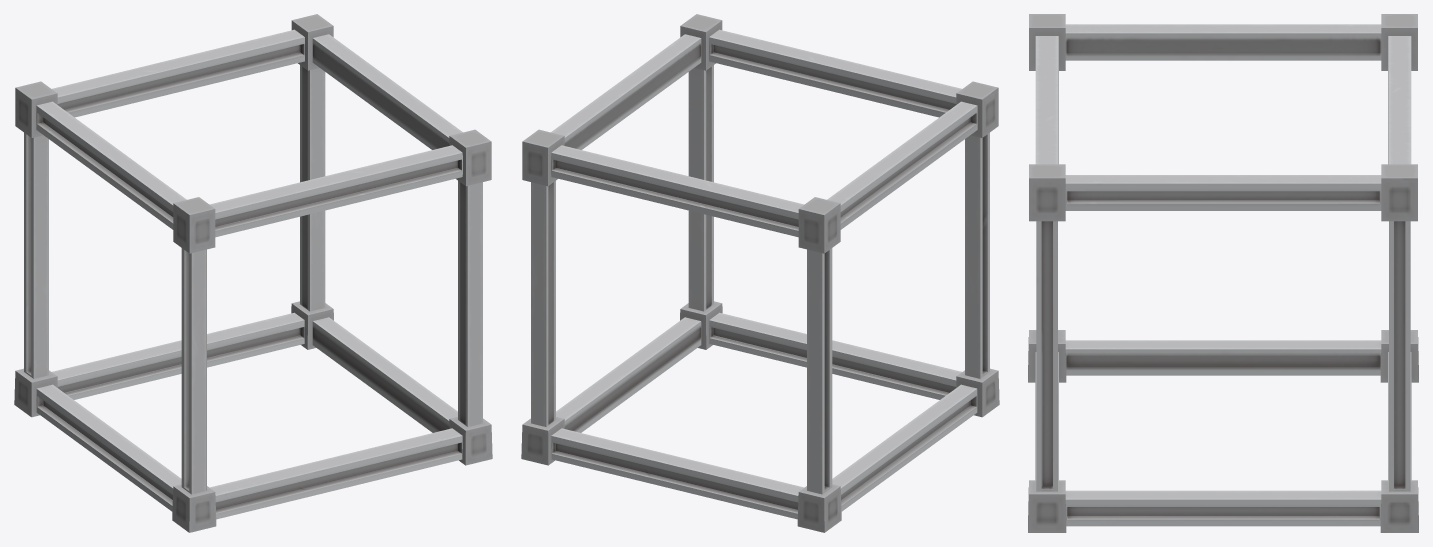
File: SM_ContainerFrame.fbx
3 renders of one model, left to right at view 1: azimuth 30°, elevation 25°; view 2: azimuth 150°, elevation 25°; view 3: azimuth 270°, elevation 25°, orthographic. The views are drawn at different scales.
Visible parts, largest first — view 1: Mat_SteelFrame_01 7; view 2: Mat_SteelFrame_01 7; view 3: Mat_SteelFrame_01 7.
Boxes of the visible parts, x1,y1,x2,y2 form: Mat_SteelFrame_01 7: (14, 14, 492, 532); Mat_SteelFrame_01 7: (521, 14, 999, 532); Mat_SteelFrame_01 7: (1028, 14, 1418, 532).
Bounding box in the file's own units: 1 × 1 × 1.
Materials: 1 (1 with a texture image).
